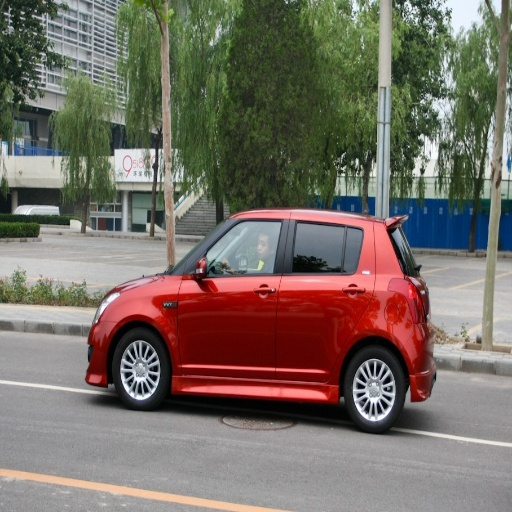back_left_door: (276, 217, 373, 383)
